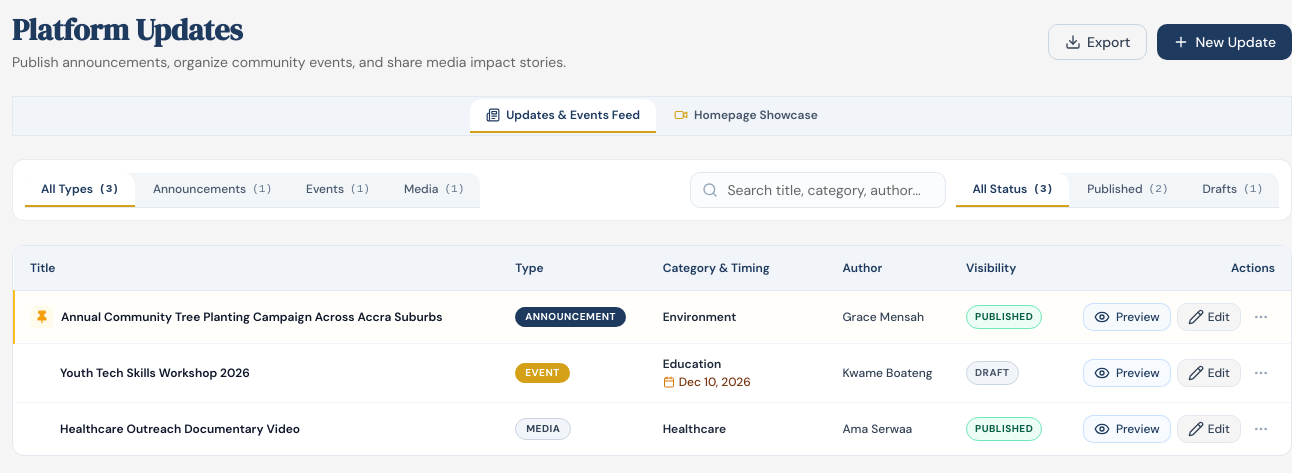
Test case: Admin Platform Updates Page UX Refinements › filters updates properly by status and search query
Check: the button "Annual Community Tree Planting Campaign Across Accra Suburbs" is shown, box [61,308,442,324]
Check: the button "Youth Tech Skills Workshop 2026" is shown, box [60,364,250,380]
# Filter by Drafts
Click the button "Drafts (1)". click: click(1233, 190)
box: [1186,173,1279,207]
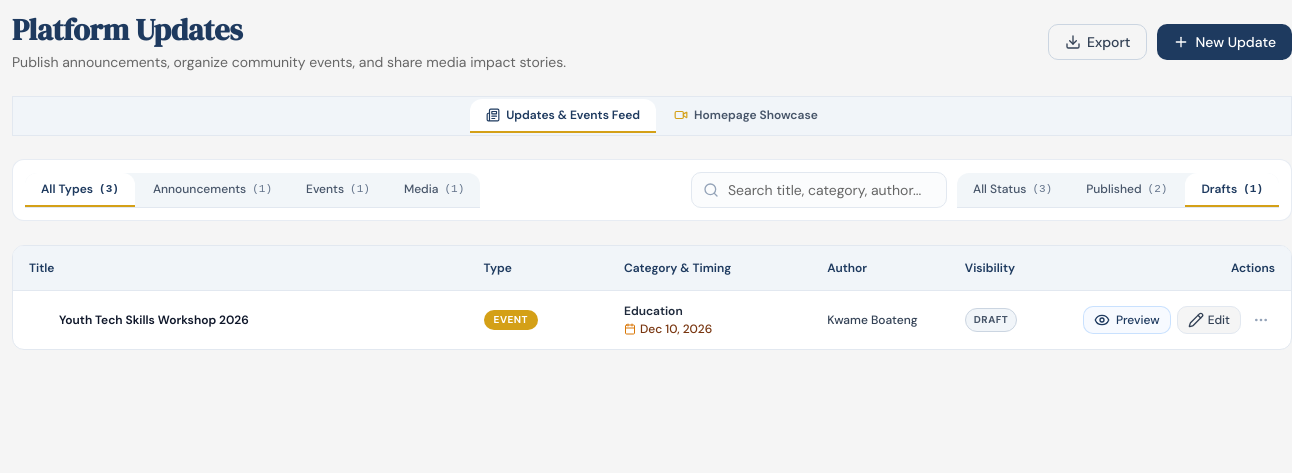
Check: the button "Youth Tech Skills Workshop 2026" is shown, box [59,312,249,328]
Check: no buttons "Annual Community Tree Planting Campaign Across Accra Suburbs" are shown
# Filter by Published
Click the button "Published (2)". click: click(1127, 190)
box: [1070,173,1183,207]
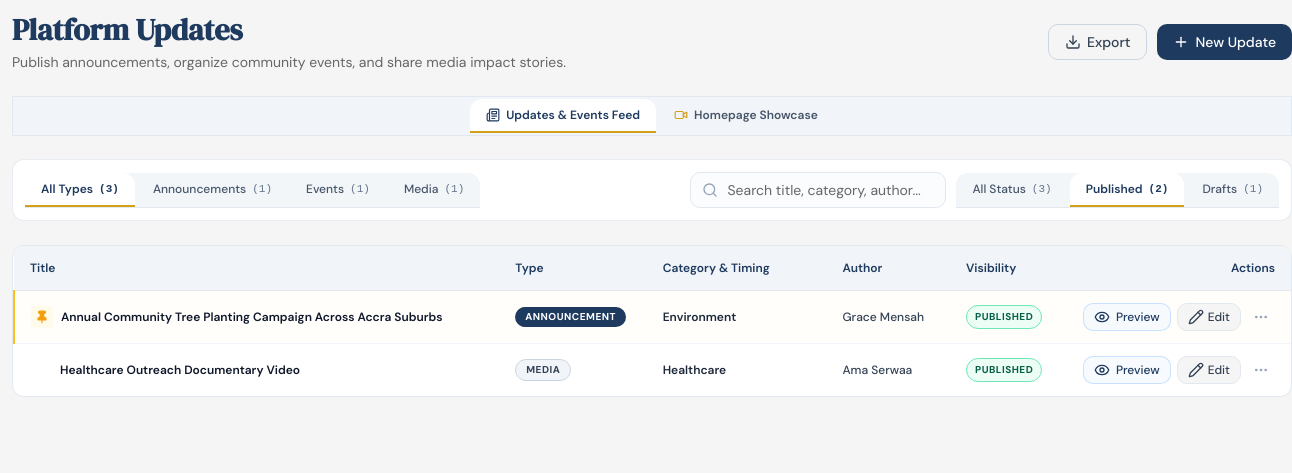
Check: the button "Annual Community Tree Planting Campaign Across Accra Suburbs" is shown, box [61,308,442,324]
Check: the button "Healthcare Outreach Documentary Video" is shown, box [60,362,300,378]
Check: no buttons "Youth Tech Skills Workshop 2026" are shown
# Search filter
Type "healthcare" into the field with placeholder "Search title, category, author...". click: (818, 190)
box: [690,172,946,208]
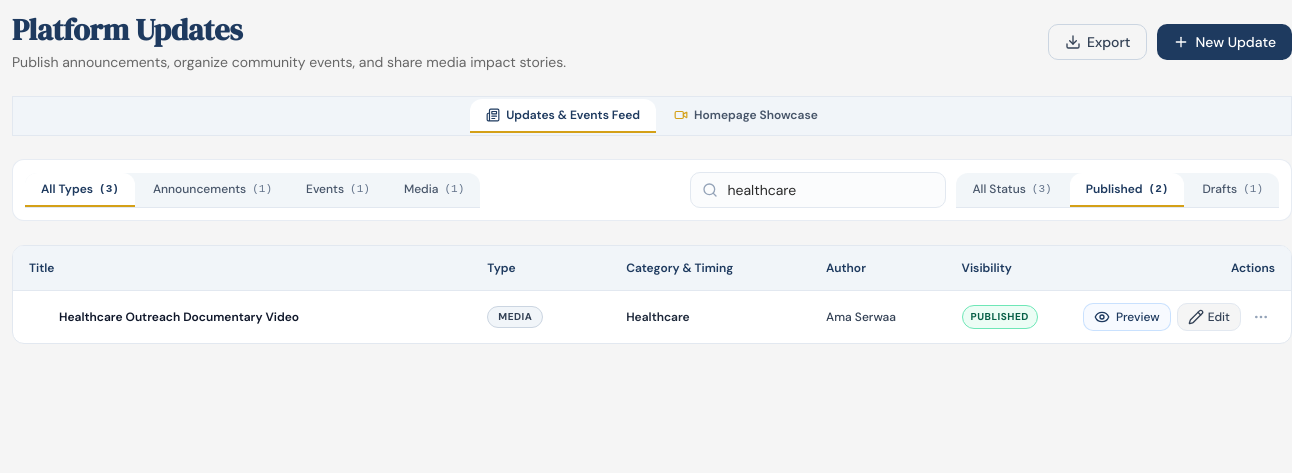
Check: the button "Healthcare Outreach Documentary Video" is shown, box [59,308,299,324]
Check: no buttons "Annual Community Tree Planting Campaign Across Accra Suburbs" are shown
